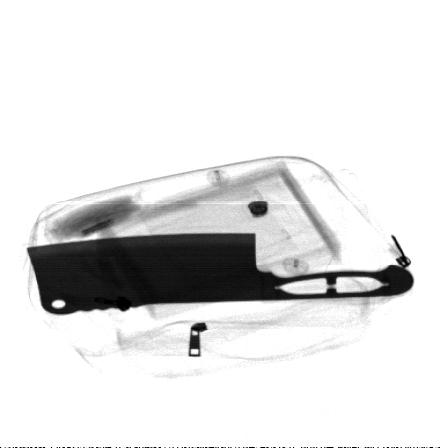Knife: (25, 232, 415, 315)
